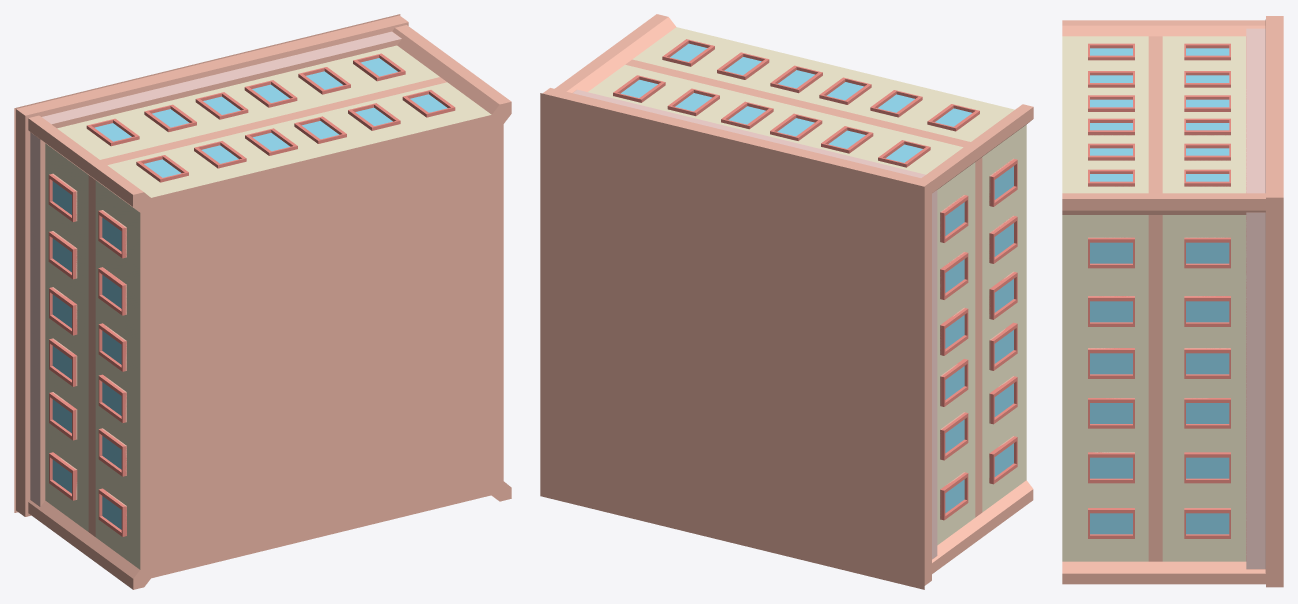
File: ThrowAFitBuildingFBX.fbx
3 views of the same model, side by side, from view 1: azimuth 30°, elevation 25°; view 2: azimuth 150°, elevation 25°; view 3: azimuth 270°, elevation 25° (orthographic). The views are drawn at different scales.
Visible parts, largest first — view 1: Cube; view 2: Cube; view 3: Cube.
Boxes of the visible parts, x1,y1,x2,y2 form: Cube: [14, 14, 511, 589]; Cube: [540, 14, 1033, 589]; Cube: [1062, 16, 1283, 587].
Size of the model in its own units: 4249 by 4258 by 2174.
